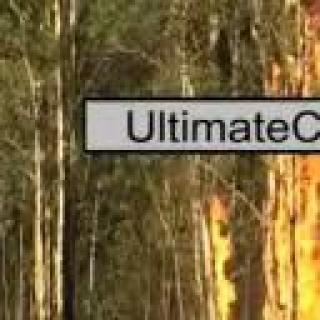fire: (201, 155, 320, 320), (262, 8, 320, 86)
